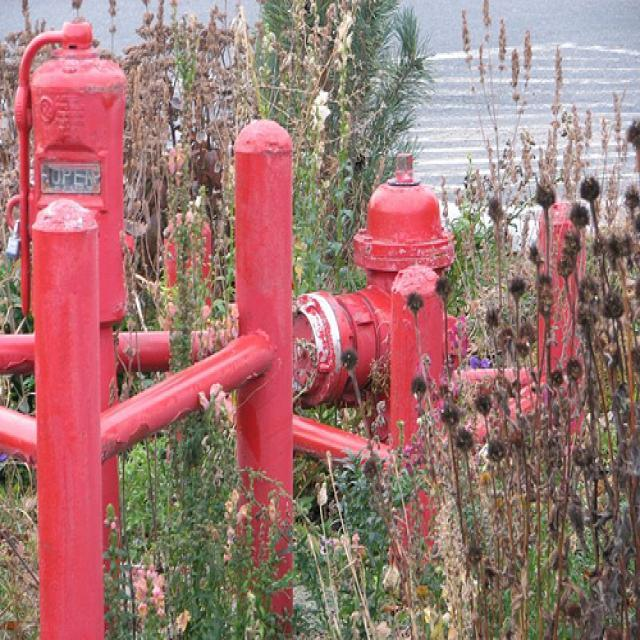fire_hydrant: (0, 17, 127, 408), (292, 285, 475, 420), (346, 154, 449, 292)
